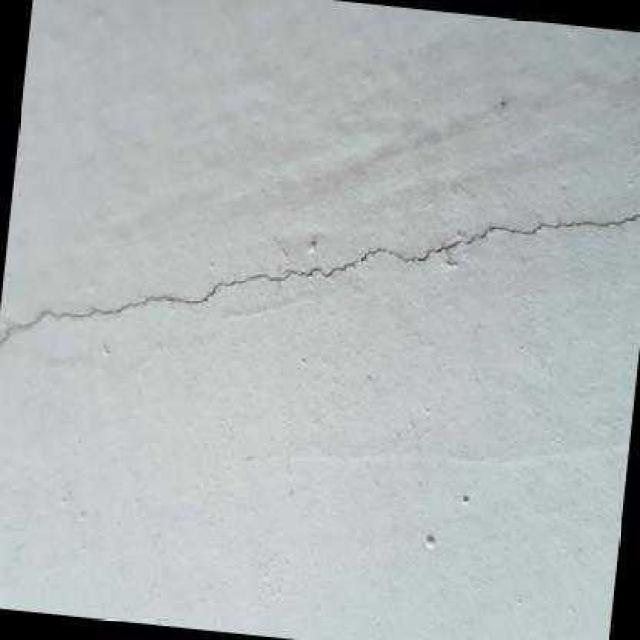D00: (0, 213, 640, 344)
